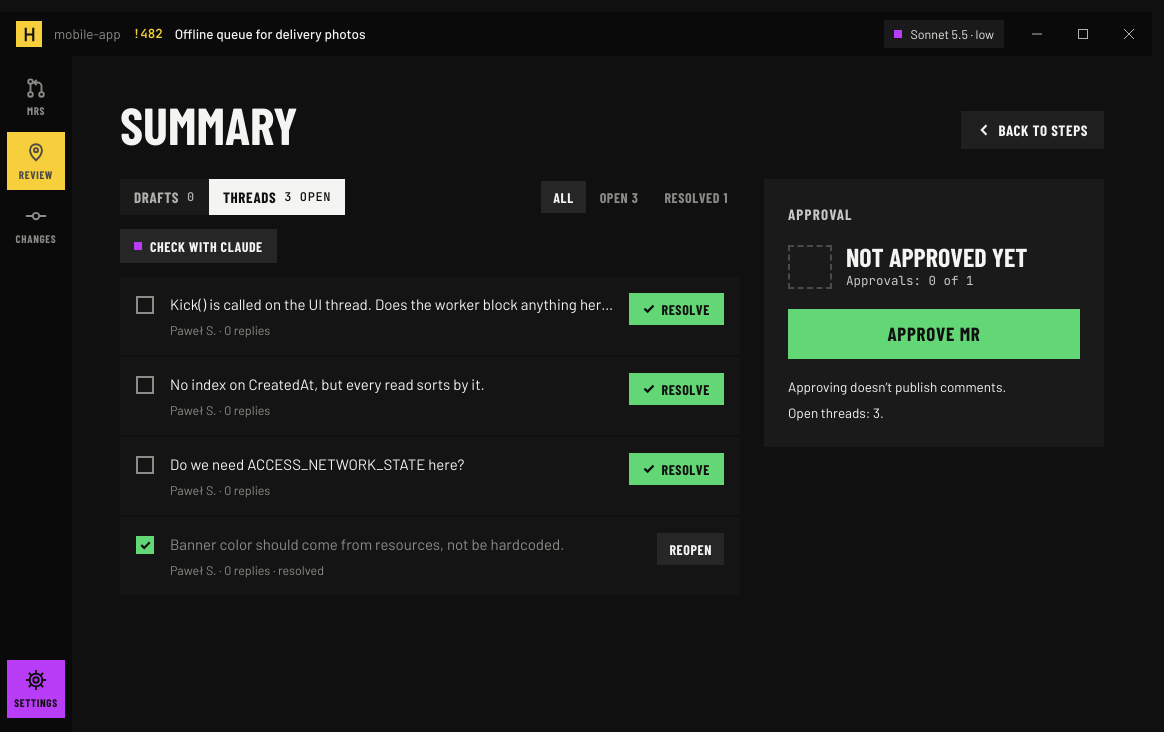
S-05 Threads tab: Check with Claude (F-13.3) › F-13.3 the Drafts tab has no Check with Claude
Check: the element named "Thread filter" is shown, box x1=541 y1=181 x2=740 y2=213
Check: the button "Check with Claude" is shown, box x1=120 y1=229 x2=277 y2=263
Click the tab "Drafts 0" at [164, 197], box x1=120 y1=179 x2=209 y2=215
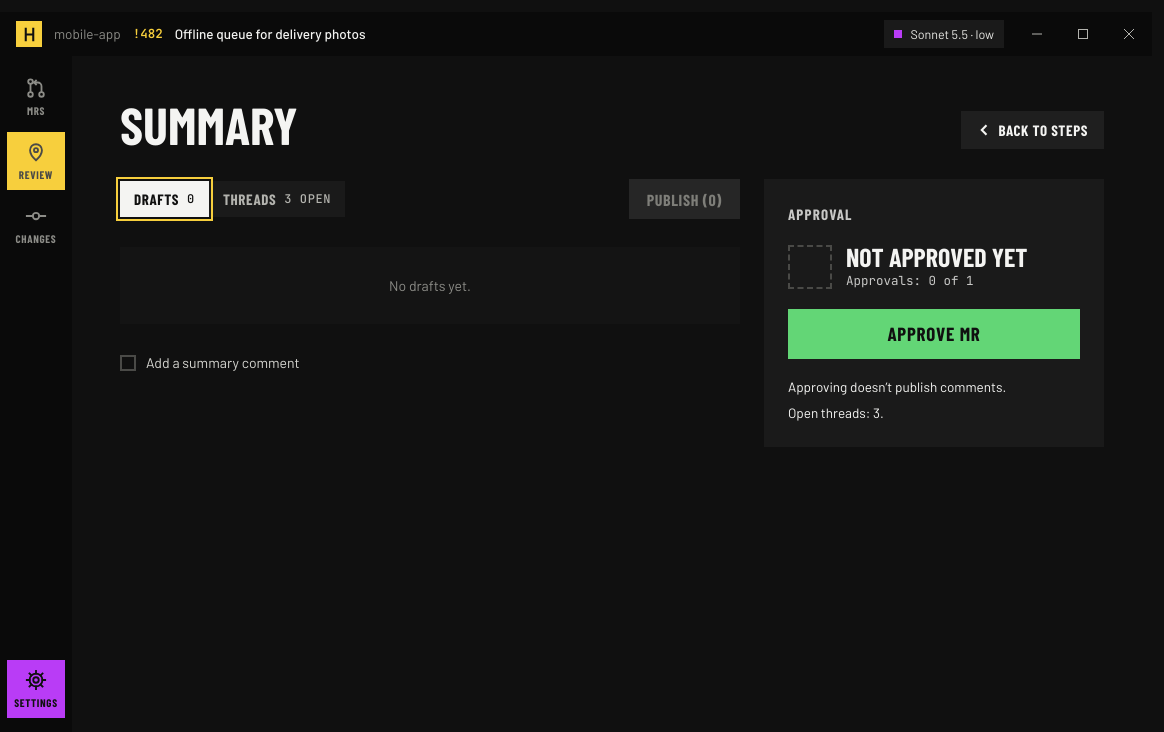
Check: the button "Check with Claude" is gone
Click the tab "Threads 3 open" at [277, 199], box x1=209 y1=181 x2=345 y2=217
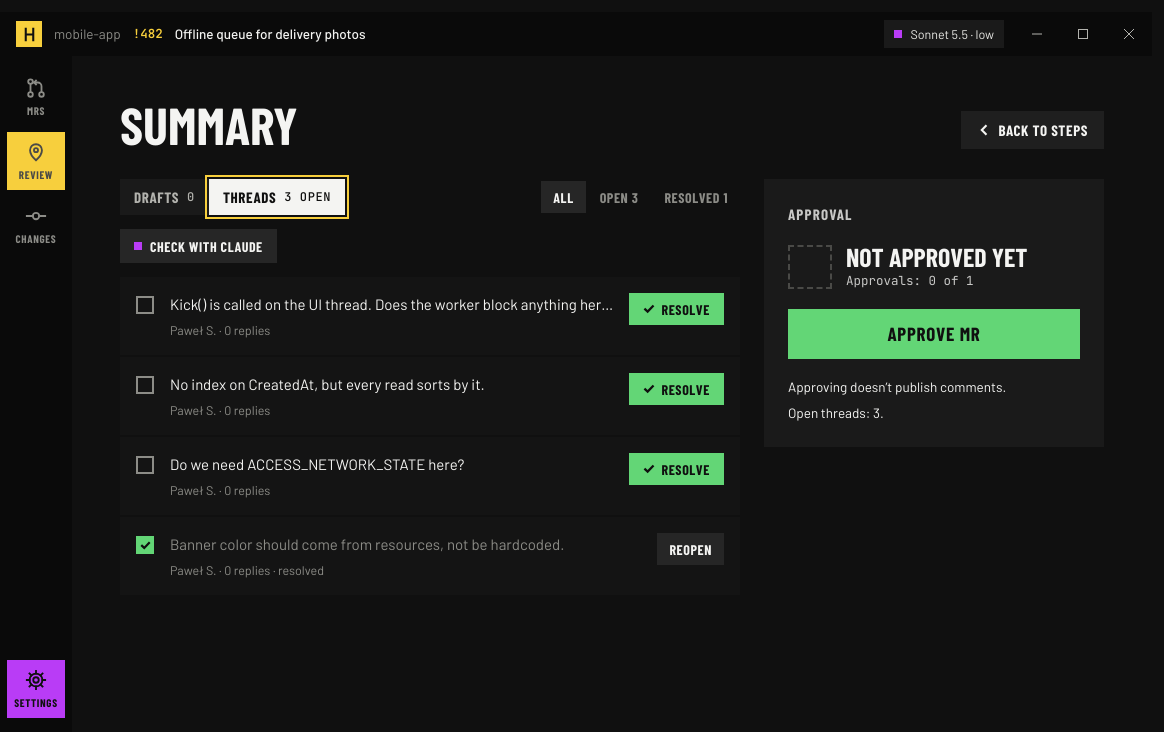
Check: the button "Check with Claude" is shown, box x1=120 y1=229 x2=277 y2=263
